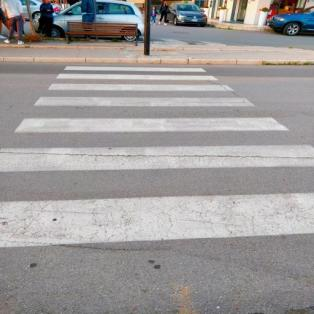Paso de Cebra: (12, 94, 292, 138), (54, 64, 224, 82)
